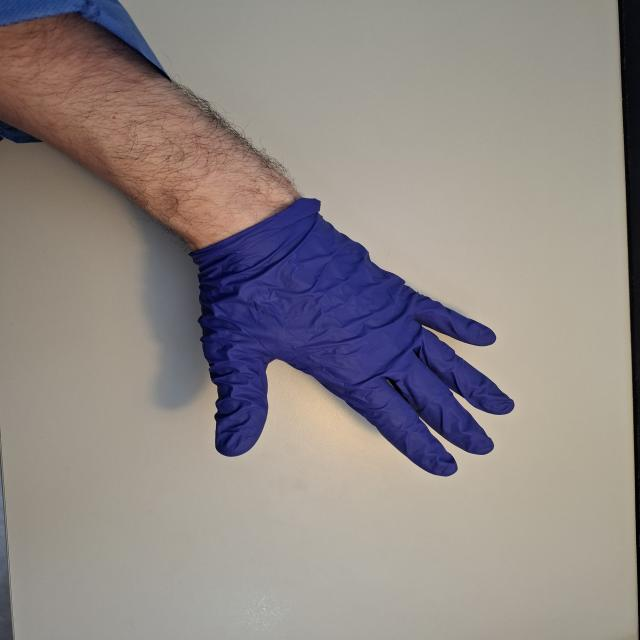glove_on: (185, 196, 518, 480)
